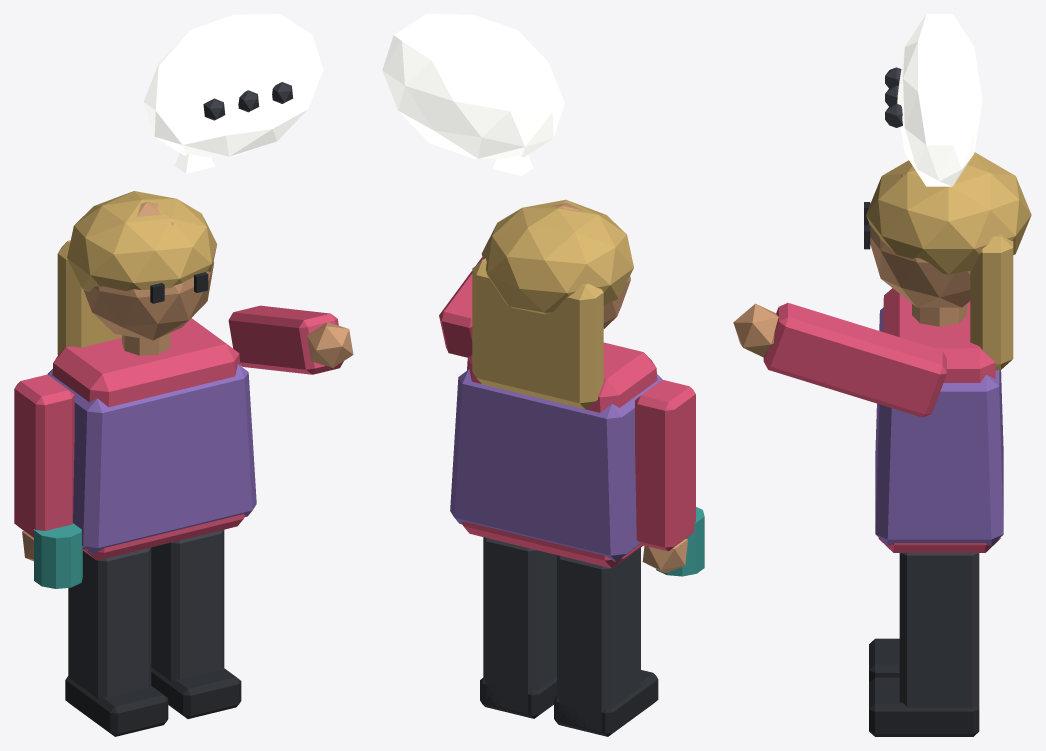
File: chatterbox.glb
The picture shows the model from 3 angles, left to right: view 1: azimuth 30°, elevation 25°; view 2: azimuth 150°, elevation 25°; view 3: azimuth 270°, elevation 25°; orthographic projection. The views are drawn at different scales.
Visible parts, largest first — view 1: Props, Body, LegR, LegL, ArmR, ArmL; view 2: Props, Body, LegR, LegL, ArmR, ArmL; view 3: Props, Body, LegL, ArmL, LegR.
Part boxes in pixels (x1=…): Props: x1=47, y1=14, x2=323, y2=554; Body: x1=52, y1=191, x2=245, y2=560; LegR: x1=65, y1=547, x2=168, y2=736; LegL: x1=151, y1=530, x2=241, y2=718; ArmR: x1=14, y1=374, x2=82, y2=588; ArmL: x1=228, y1=305, x2=353, y2=374; Props: x1=382, y1=14, x2=662, y2=561; Body: x1=461, y1=199, x2=657, y2=568; LegR: x1=554, y1=547, x2=658, y2=736; LegL: x1=480, y1=537, x2=556, y2=718; ArmR: x1=635, y1=379, x2=704, y2=576; ArmL: x1=439, y1=257, x2=482, y2=357; Props: x1=875, y1=14, x2=1003, y2=545; Body: x1=864, y1=152, x2=1031, y2=552; LegL: x1=869, y1=553, x2=979, y2=736; ArmL: x1=733, y1=303, x2=946, y2=417; LegR: x1=869, y1=638, x2=899, y2=682.
Bounding box in the file's own units: 0.6059 × 1.31 × 0.4859.
